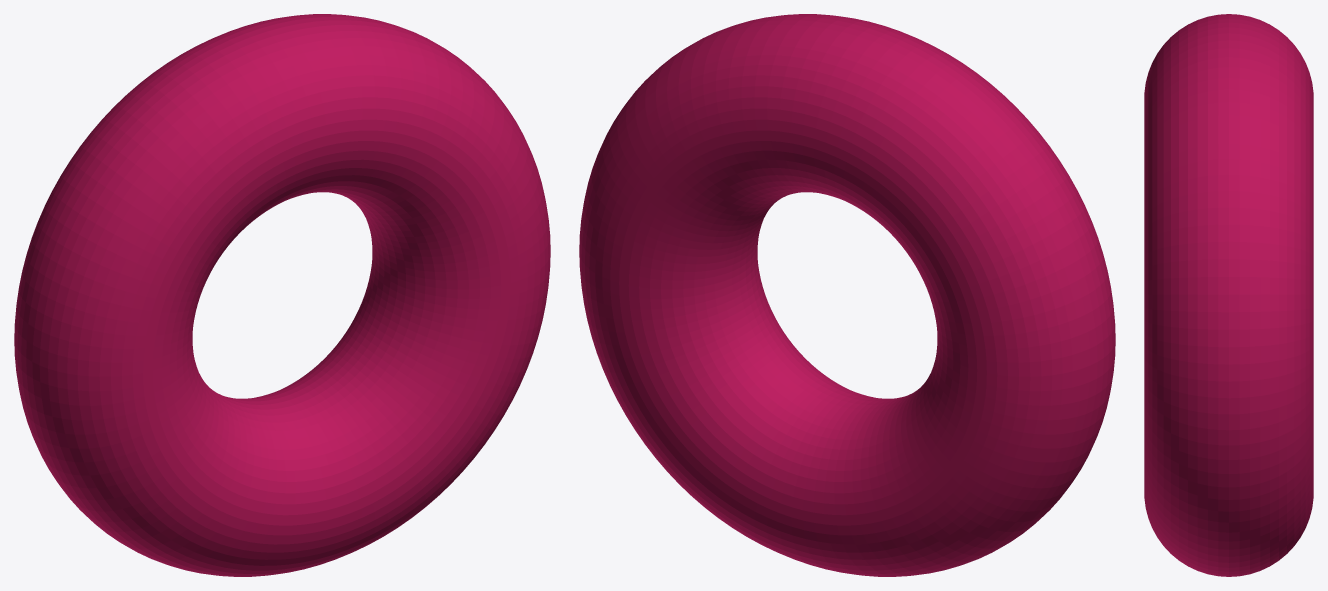
3 views of the same model, side by side, from view 1: azimuth 30°, elevation 25°; view 2: azimuth 150°, elevation 25°; view 3: azimuth 270°, elevation 25° (orthographic). The views are drawn at different scales.
Parts seen in each view (by area): view 1: world; view 2: world; view 3: world.
Part boxes in pixels (box(x1,y1,x2,y2)): world: box(14, 14, 550, 576); world: box(579, 14, 1115, 576); world: box(1144, 14, 1313, 576).
Bounding box in the file's own units: 30.53 × 30.53 × 9.18.
